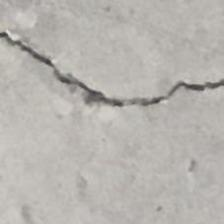Crack: (0, 28, 224, 125)
